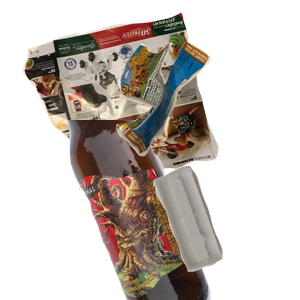glass: (65, 120, 300, 300)
paper: (20, 10, 231, 190)
plastic: (150, 163, 300, 300)
trash: (114, 39, 300, 188)
